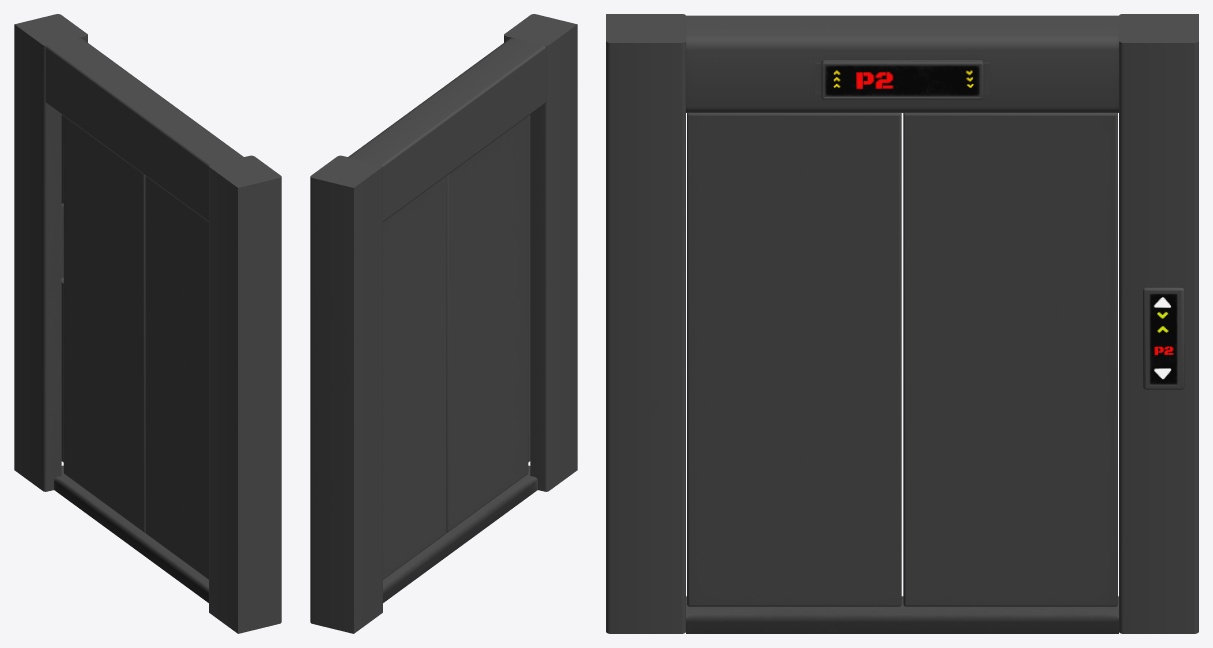
Rendered from animacion elecvador.fbx.
3 renders of one model, left to right at view 1: azimuth 30°, elevation 25°; view 2: azimuth 150°, elevation 25°; view 3: azimuth 270°, elevation 25°, orthographic. The views are drawn at different scales.
Parts seen in each view (by area): view 1: BASE.001, L.001, R.001; view 2: BASE.001, R.001, L.001; view 3: BASE.001, L.001, R.001.
Boxes of the visible parts, x1,y1,x2,y2 form: BASE.001: (14,14,281,633); L.001: (63,116,145,532); R.001: (145,176,208,579); BASE.001: (310,14,577,633); R.001: (446,116,528,532); L.001: (383,176,446,579); BASE.001: (606,14,1198,633); L.001: (903,113,1117,606); R.001: (687,113,901,606).
Size of the model in its own units: 24.78 by 226 by 205.
1 material, 1 textured.
